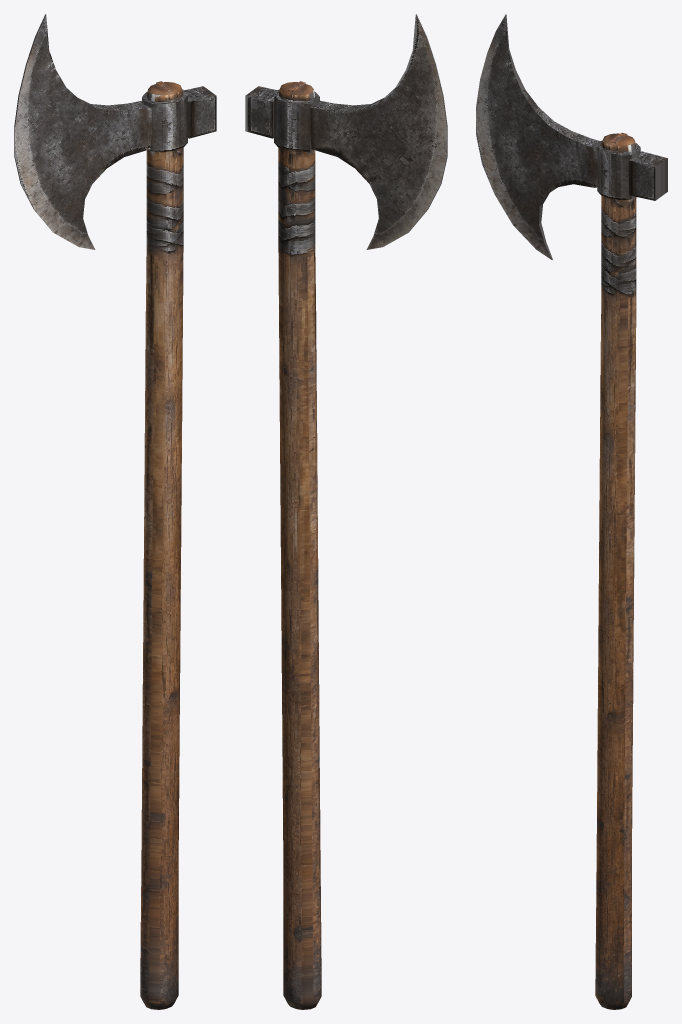
The model's file is high-crescent-battle-axe.glb.
3 renders of one model, left to right at view 1: azimuth 30°, elevation 25°; view 2: azimuth 150°, elevation 25°; view 3: azimuth 330°, elevation 25°, orthographic. The views are drawn at different scales.
Visible parts, largest first — view 1: Straight_Cinnamon_Ash_Haft, Traced_High_Crescent_Blade, Forged_Through_Eye_Socket, Short_Counter_Poll; view 2: Straight_Cinnamon_Ash_Haft, Traced_High_Crescent_Blade, Forged_Through_Eye_Socket, Short_Counter_Poll; view 3: Straight_Cinnamon_Ash_Haft, Traced_High_Crescent_Blade, Forged_Through_Eye_Socket, Short_Counter_Poll.
Boxes of the visible parts, bbox=[...] form: Straight_Cinnamon_Ash_Haft: bbox=[140, 82, 183, 1009]; Traced_High_Crescent_Blade: bbox=[14, 14, 151, 249]; Forged_Through_Eye_Socket: bbox=[142, 89, 187, 152]; Short_Counter_Poll: bbox=[185, 86, 216, 138]; Straight_Cinnamon_Ash_Haft: bbox=[278, 82, 321, 1009]; Traced_High_Crescent_Blade: bbox=[310, 14, 447, 249]; Forged_Through_Eye_Socket: bbox=[274, 89, 319, 152]; Short_Counter_Poll: bbox=[245, 86, 276, 138]; Straight_Cinnamon_Ash_Haft: bbox=[595, 133, 636, 1009]; Traced_High_Crescent_Blade: bbox=[476, 14, 600, 259]; Forged_Through_Eye_Socket: bbox=[597, 140, 640, 199]; Short_Counter_Poll: bbox=[629, 151, 667, 200].
Bounding box in the file's own units: 0.187 × 0.933 × 0.032.
Materials: 3 (3 with a texture image).
